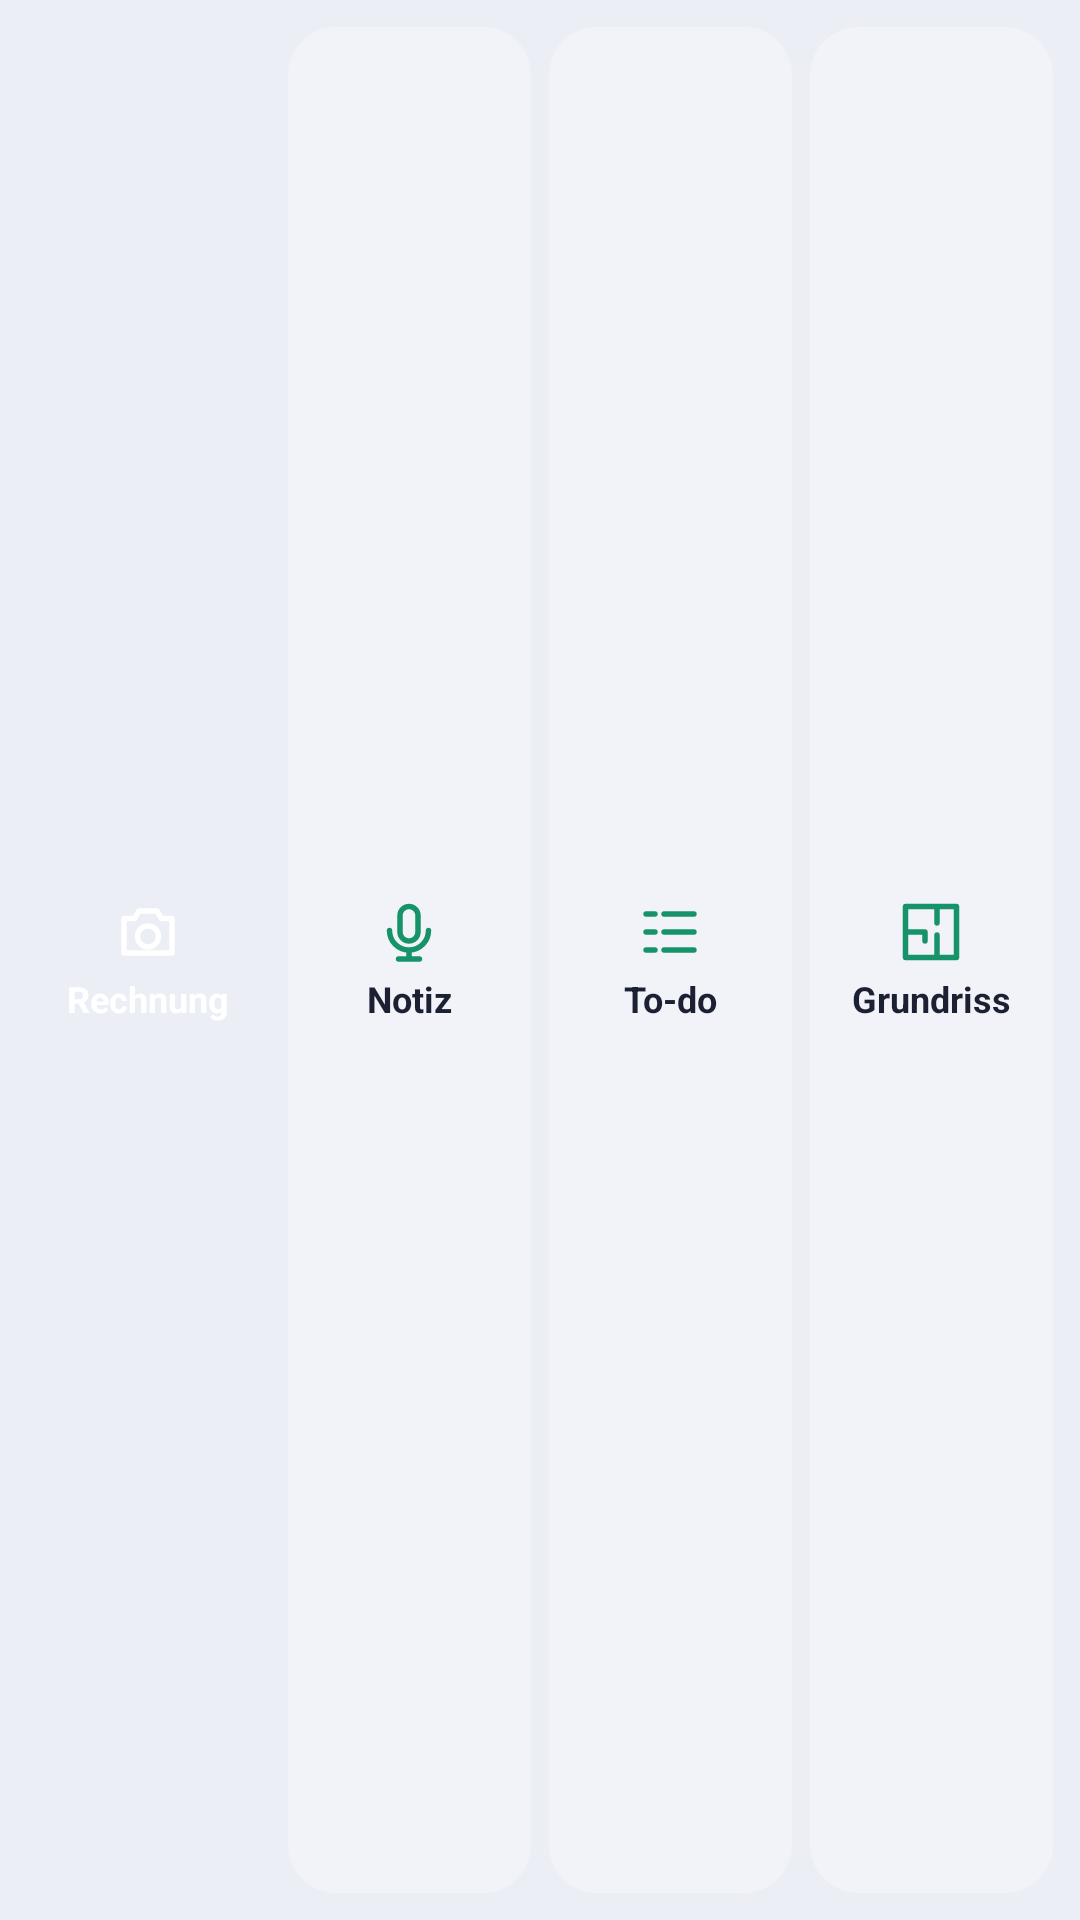

Icons on this 1080 × 1920 Android screen, each with the point to tap as (x,y):
mic: (409,932)
plan: (931,932)
tasks: (670,932)
